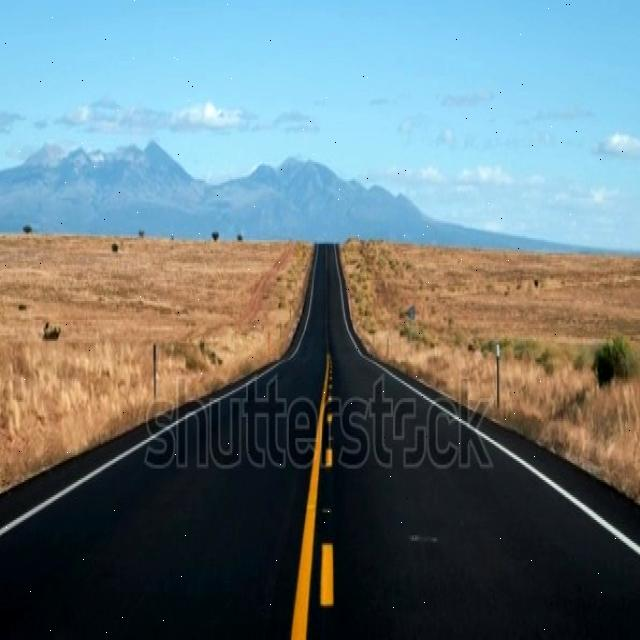lane: (291, 352, 329, 638)
road: (0, 244, 639, 636)
